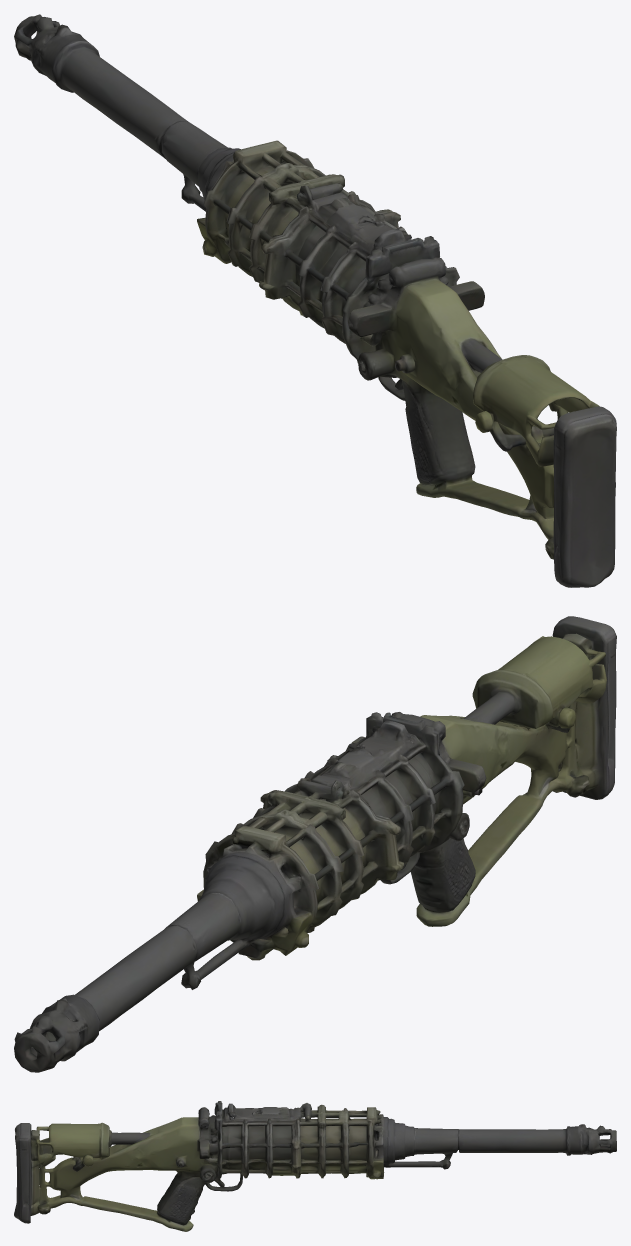
Rendered from tripo_launcher.glb.
3 views of the same model, one above another, from view 1: azimuth 30°, elevation 25°; view 2: azimuth 150°, elevation 25°; view 3: azimuth 270°, elevation 25° (orthographic). The views are drawn at different scales.
Parts seen in each view (by area): view 1: Body; view 2: Body; view 3: Body.
Part boxes in pixels (bbox=[...]): Body: bbox=[14, 14, 616, 587]; Body: bbox=[14, 616, 616, 1072]; Body: bbox=[14, 1101, 616, 1231].
Size of the model in its own units: 0.2196 by 0.3386 by 1.5.
Materials: 1 (1 with a texture image).
